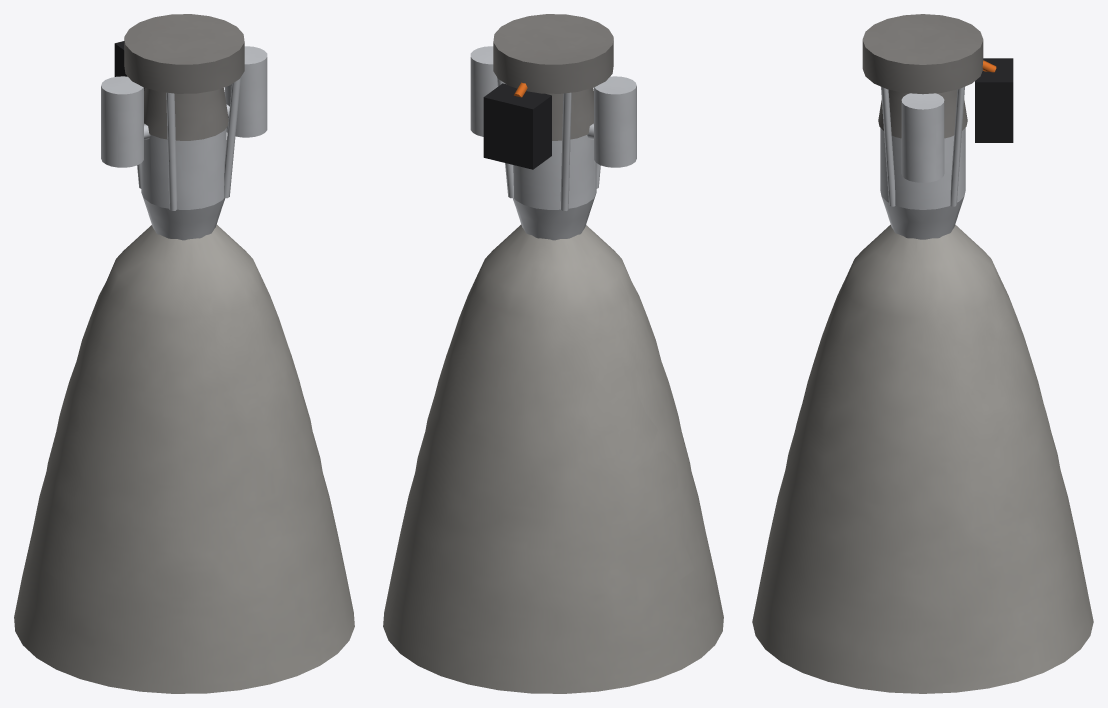
The model's file is prop15_electric_pump_kerolox_vac.glb.
The picture shows the model from 3 angles, left to right: view 1: azimuth 30°, elevation 25°; view 2: azimuth 150°, elevation 25°; view 3: azimuth 270°, elevation 25°; orthographic projection.
Visible parts, largest first — view 1: bell, mount, chamber, electric_pumps, injector_dome, thrust_struts; view 2: bell, mount, chamber, electric_pumps, inverter, injector_dome, thrust_struts; view 3: bell, mount, chamber, electric_pumps, inverter, thrust_struts, injector_dome.
Part boxes in pixels (x1,y1,x2,y2): bell: (14, 224, 354, 693); mount: (124, 14, 244, 93); chamber: (141, 128, 226, 240); electric_pumps: (101, 46, 267, 167); injector_dome: (144, 87, 228, 140); thrust_struts: (137, 77, 240, 210); bell: (383, 224, 723, 693); mount: (493, 14, 613, 93); chamber: (512, 135, 596, 240); electric_pumps: (470, 46, 636, 167); inverter: (483, 83, 551, 169); injector_dome: (546, 88, 593, 140); thrust_struts: (497, 77, 600, 210); bell: (752, 224, 1093, 693); mount: (862, 14, 983, 94); chamber: (880, 128, 965, 239); electric_pumps: (901, 93, 944, 182); inverter: (975, 58, 1013, 142); thrust_struts: (881, 86, 964, 206); injector_dome: (878, 89, 967, 138).
Bounding box in the file's own units: 0.7175 × 1.35 × 0.7175.
Materials: 5 (3 with a texture image).
